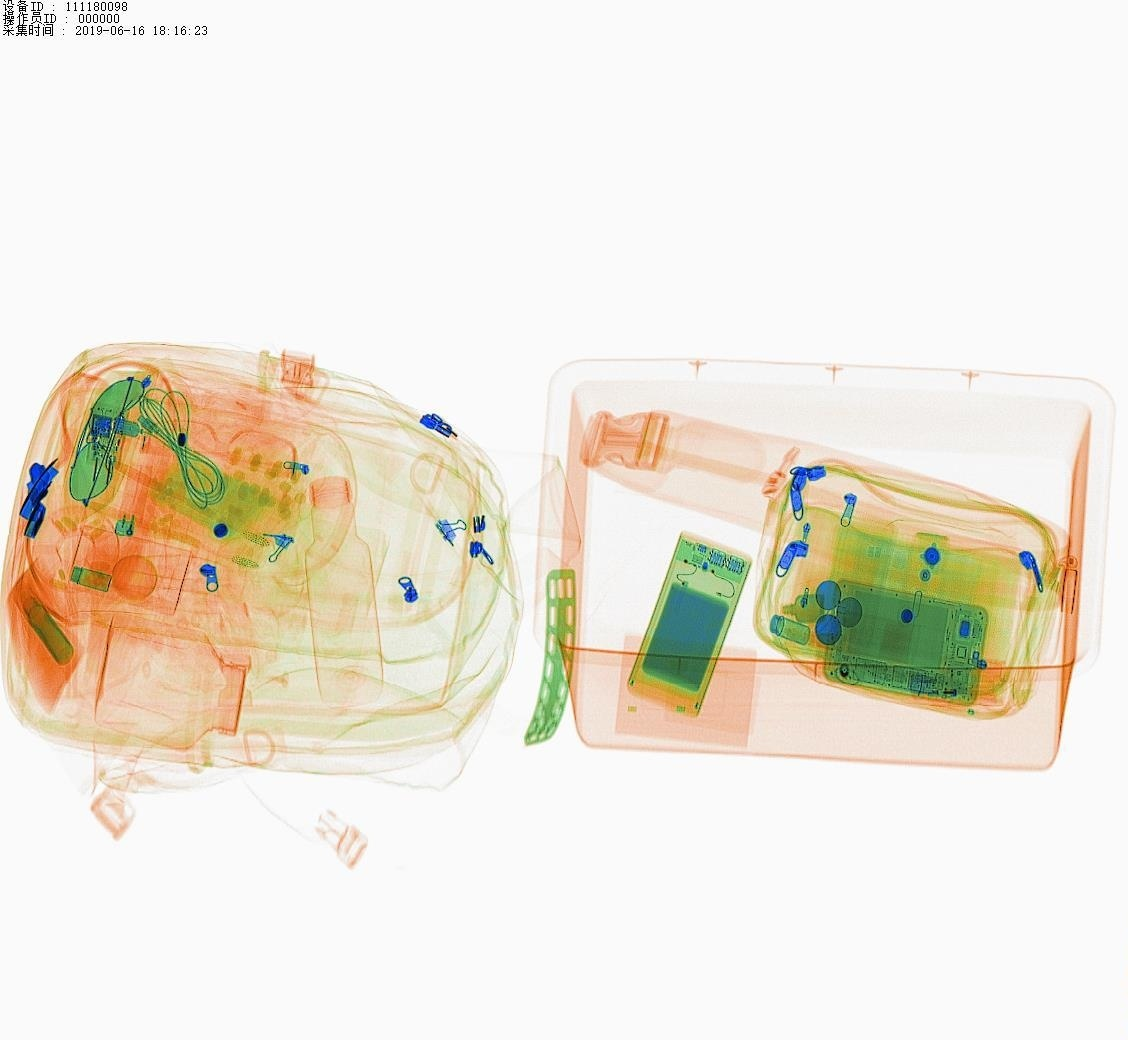NonmetallicFire: (908, 661, 1014, 713), (109, 447, 159, 547)
